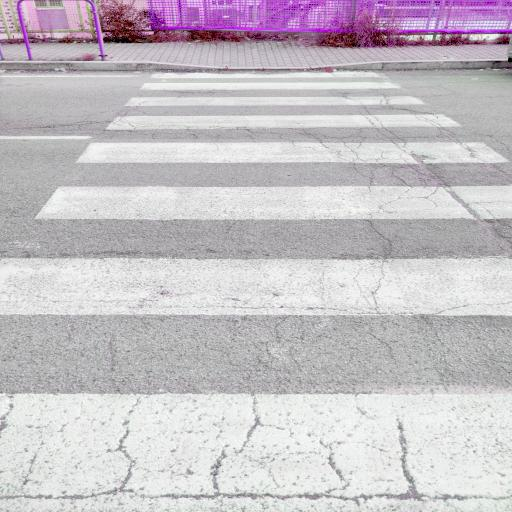crosswalk: (27, 132, 511, 232), (116, 80, 432, 113)
